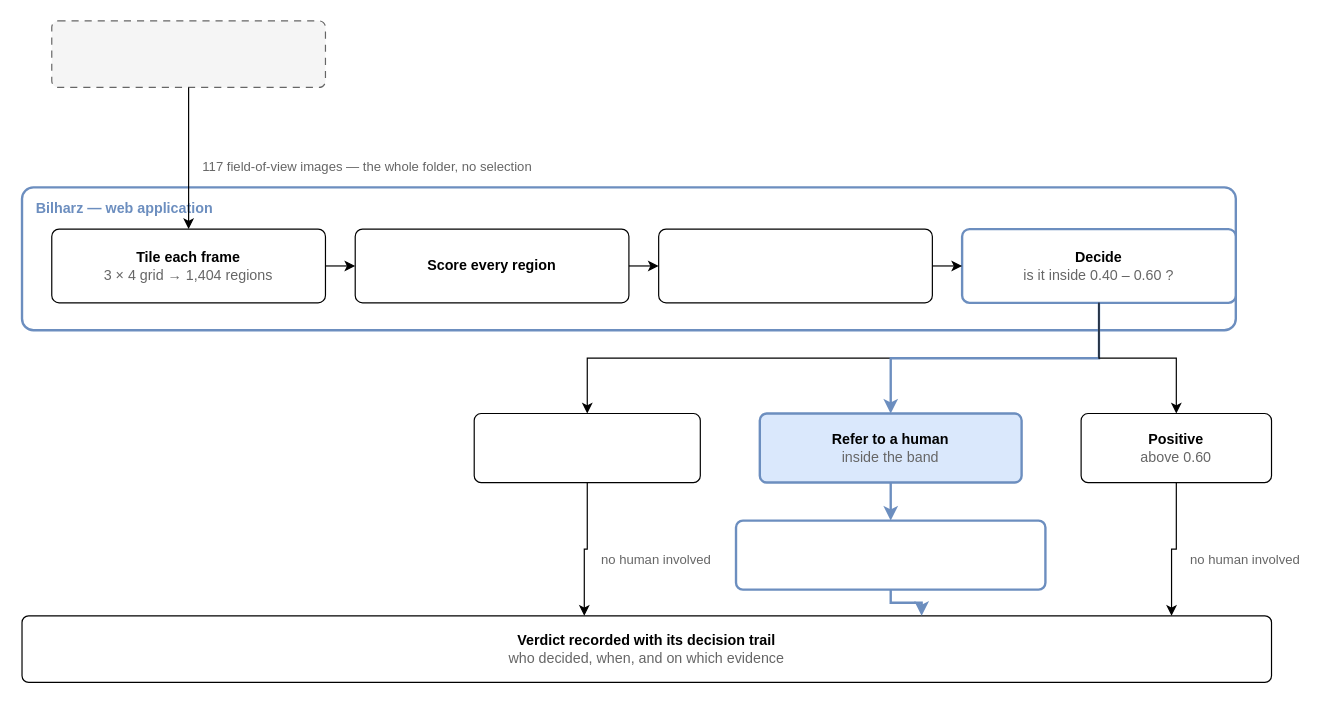
This 1320x703 diagram has some shape labels left out. Here are the shapes that lost their labels. From the top down, the centre of each, then its label:
At (188,53): "Schistoscope existing device".
At (794,265): "Aggregate mean of the top 500 scores".
At (586,447): "Negative below 0.40".
At (890,554): "Reviewer checks 12 regions confirms or overrides".
